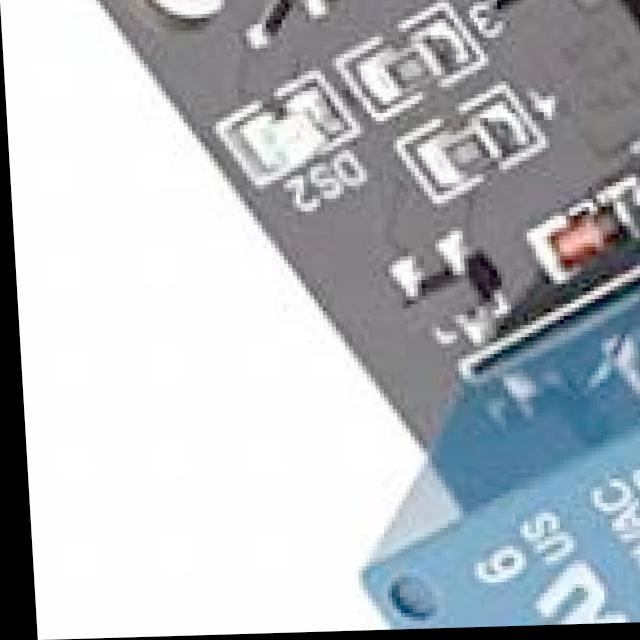IC: (496, 0, 640, 160)
LED: (235, 99, 329, 179)
connector: (240, 0, 523, 58)
diode: (521, 179, 638, 292)
relay: (342, 461, 640, 633)
resistor: (424, 110, 525, 190), (355, 43, 457, 104)
transistor: (386, 240, 513, 355)
